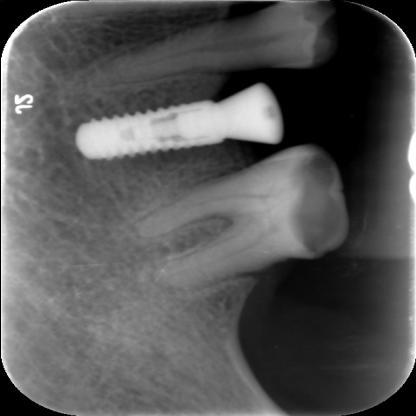ITI: (65, 94, 231, 168)
